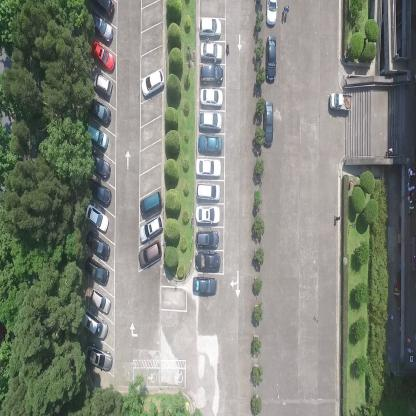car: (84, 342, 113, 372), (84, 254, 110, 287), (90, 38, 115, 72), (80, 309, 108, 339), (85, 229, 110, 261), (138, 214, 164, 244), (84, 202, 110, 232), (141, 68, 165, 100), (138, 239, 162, 269), (91, 13, 114, 44), (87, 177, 112, 205), (90, 98, 112, 127), (90, 287, 112, 316), (265, 35, 278, 84), (261, 101, 274, 150), (199, 61, 224, 86), (89, 69, 113, 95), (140, 190, 162, 218), (85, 125, 109, 150), (89, 154, 112, 180), (195, 204, 221, 226), (198, 16, 223, 38), (198, 109, 223, 131), (192, 276, 218, 297), (197, 134, 223, 154), (195, 253, 222, 272), (200, 41, 224, 61), (195, 231, 220, 250), (330, 92, 352, 113), (195, 158, 220, 176), (195, 184, 221, 201), (200, 88, 223, 107), (91, 0, 114, 17), (265, 0, 278, 27)
